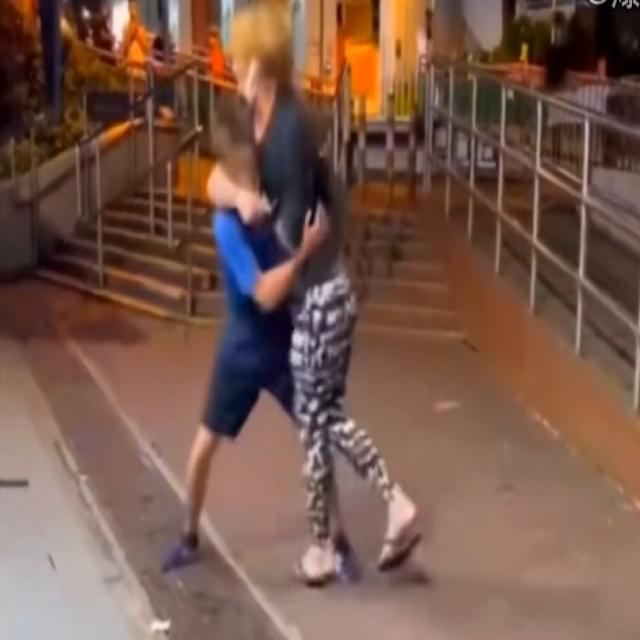fight: (177, 0, 420, 593)
